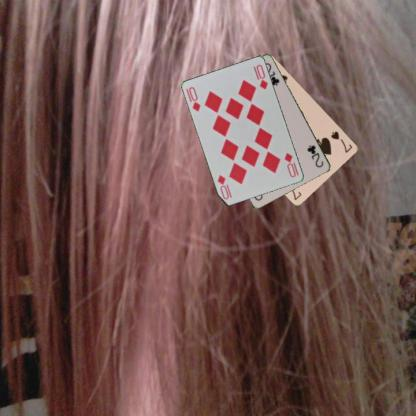10d: (282, 150, 300, 179), (186, 84, 202, 113)
2c: (304, 142, 324, 169)
7s: (328, 128, 353, 154)
